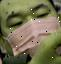with_mask: (1, 2, 61, 64)
